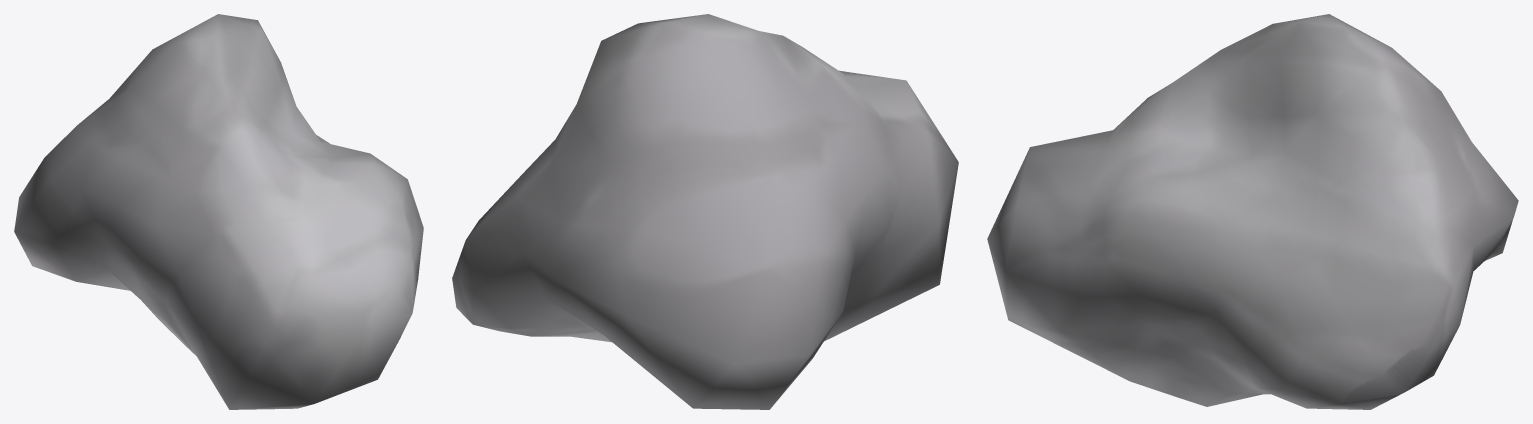
File: Astroid.obj
3 renders of one model, left to right at view 1: azimuth 30°, elevation 25°; view 2: azimuth 150°, elevation 25°; view 3: azimuth 270°, elevation 25°, orthographic. The views are drawn at different scales.
Visible parts, largest first — view 1: Icosphere; view 2: Icosphere; view 3: Icosphere.
Part boxes in pixels (box(x1,y1,x2,y2)): Icosphere: box(14, 14, 423, 409); Icosphere: box(452, 14, 958, 409); Icosphere: box(987, 14, 1518, 409).
Size of the model in its own units: 21.73 by 22.31 by 28.6.
